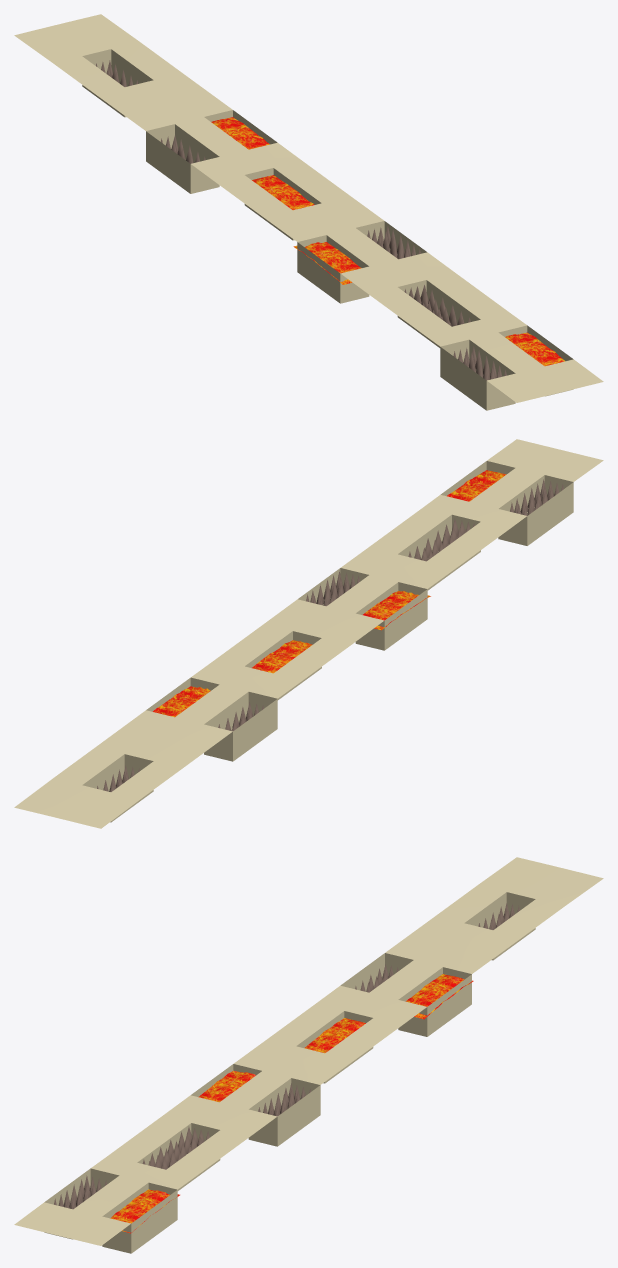
The model's file is _arita (1).fbx.
3 renders of one model, top to bottom at view 1: azimuth 30°, elevation 25°; view 2: azimuth 150°, elevation 25°; view 3: azimuth 330°, elevation 25°, orthographic.
Visible parts, largest first — view 1: kazık_pCone18; view 2: kazık_pCone18; view 3: kazık_pCone18.
Part boxes in pixels (left/top/right/bottom): kazık_pCone18: left=14, top=14, right=603, bottom=410; kazık_pCone18: left=14, top=439, right=603, bottom=828; kazık_pCone18: left=14, top=857, right=603, bottom=1253.
Bounding box in the file's own units: 1.02 × 0.3474 × 10.
Materials: 3 (1 with a texture image).
